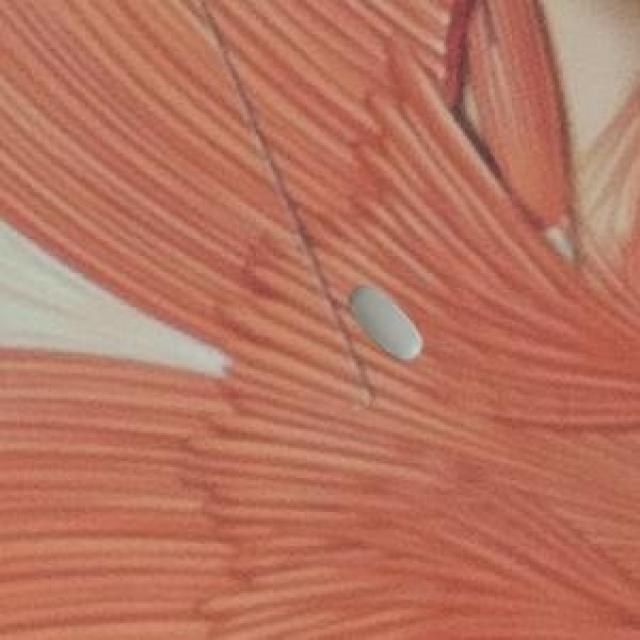Neozep: (342, 270, 429, 380)
